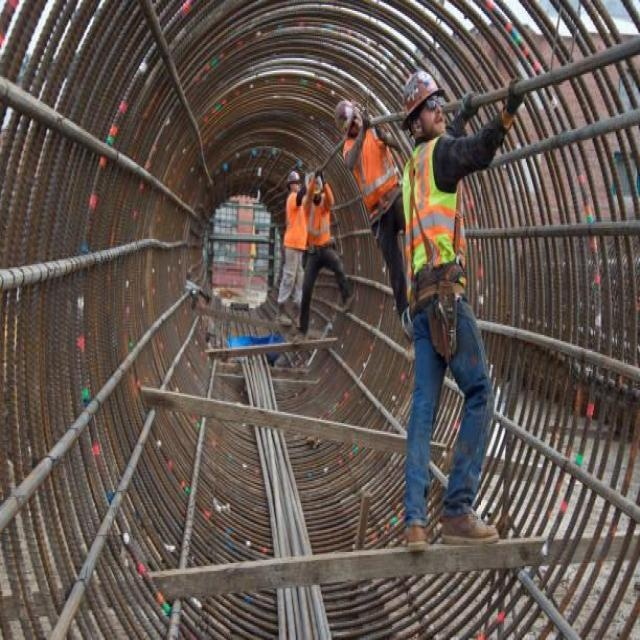Arnes_seguridad: (402, 134, 463, 318)
